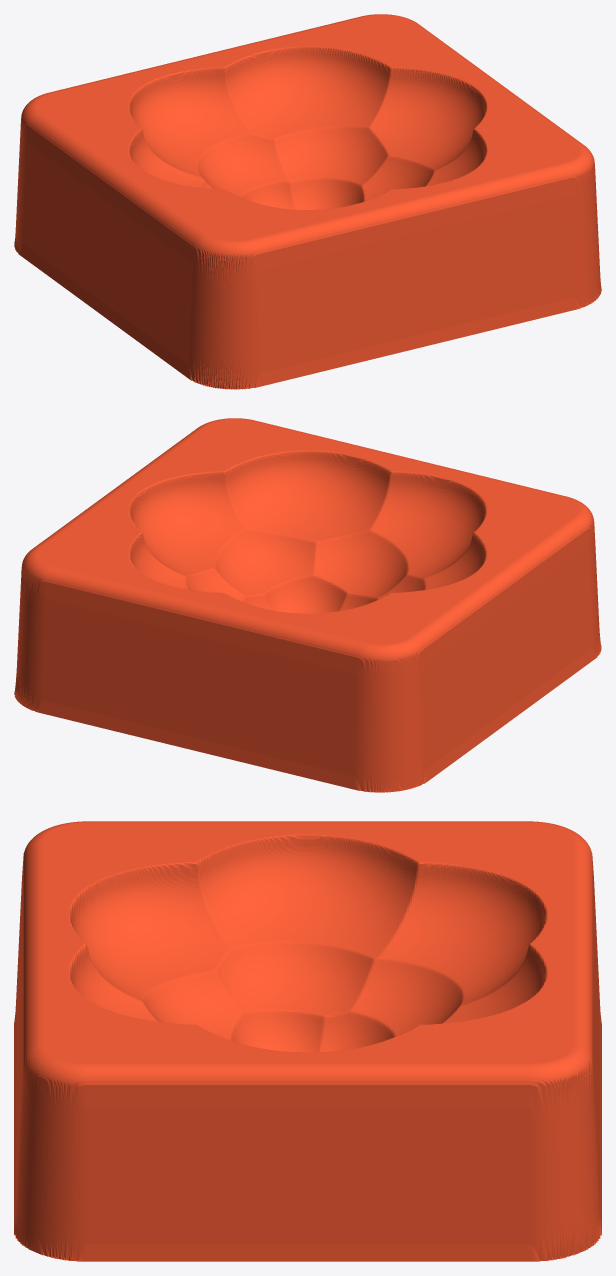
File: mold.glb
The picture shows the model from 3 angles, top to bottom: view 1: azimuth 30°, elevation 25°; view 2: azimuth 150°, elevation 25°; view 3: azimuth 270°, elevation 25°; orthographic projection. The views are drawn at different scales.
Visible parts, largest first — view 1: geometry_0; view 2: geometry_0; view 3: geometry_0.
Boxes of the visible parts, box(x1,y1,x2,y2) form: geometry_0: box(14, 14, 601, 389); geometry_0: box(14, 418, 601, 792); geometry_0: box(14, 821, 601, 1261).
Size of the model in its own units: 0.0778 by 0.0254 by 0.073.
